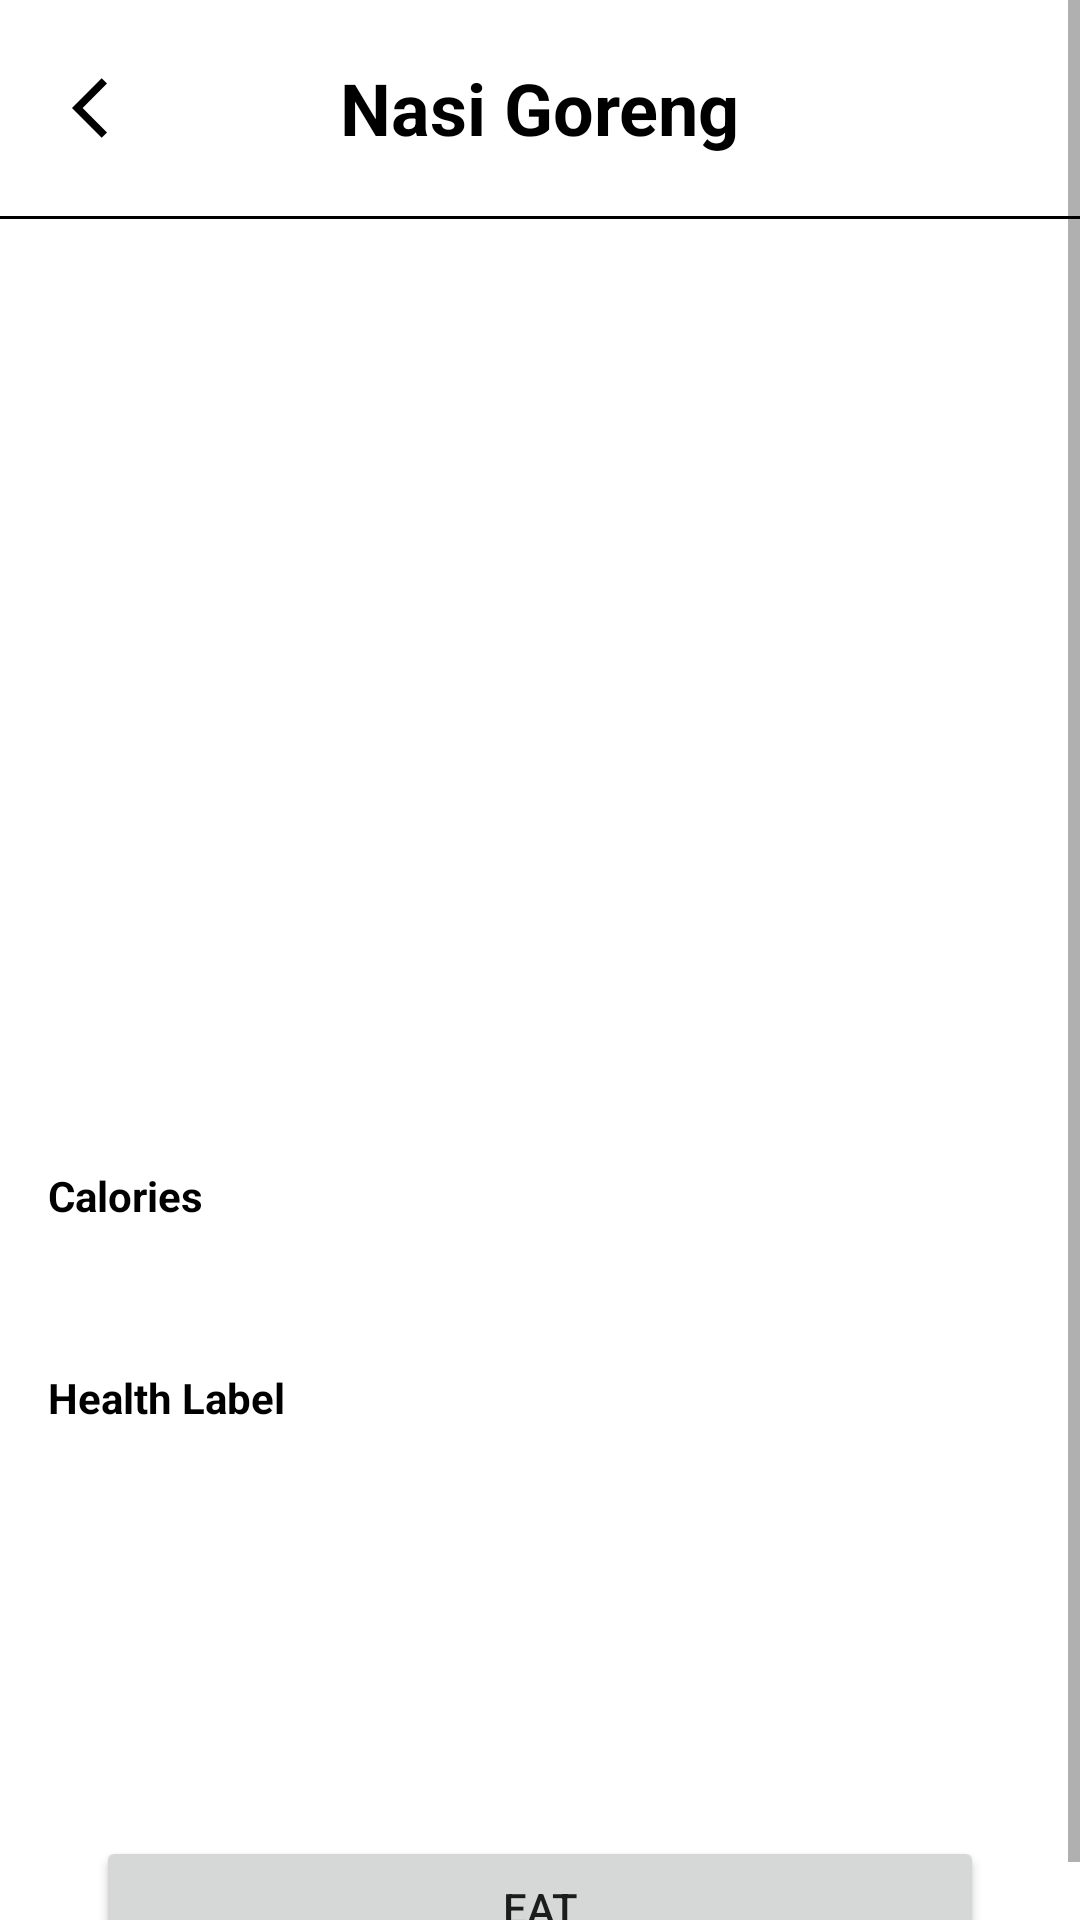

Where to tap for icons on this 1080*1920 app screen, as point (x, y):
Back Button: point (89, 108)
